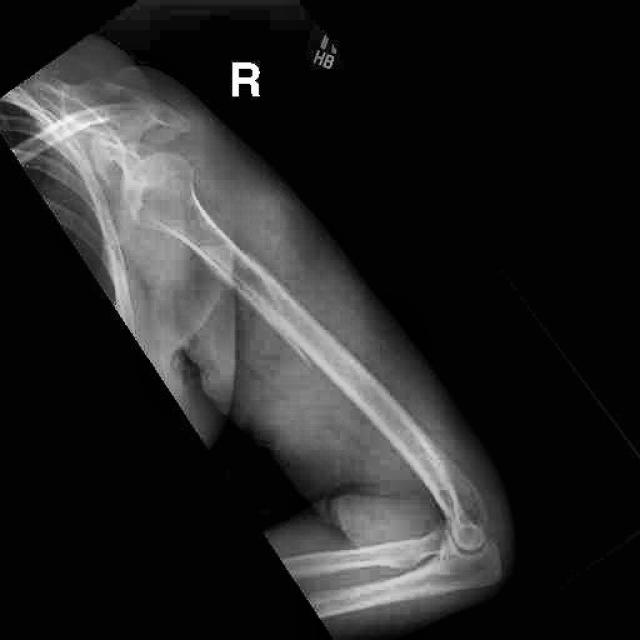humerus: (248, 244, 361, 402)
